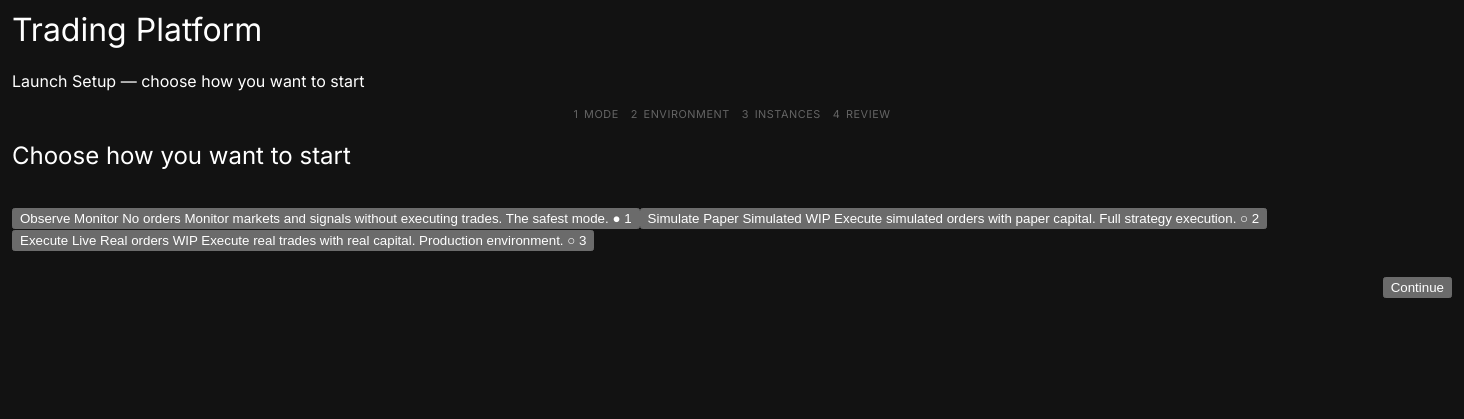
Launch Setup — mode selection › observe mode shows neither capital nor credentials
What coordinates should you click on to do the following:
click the button "Continue"
I would click on:
 (1417, 287)
Its box is [1383, 277, 1452, 298].
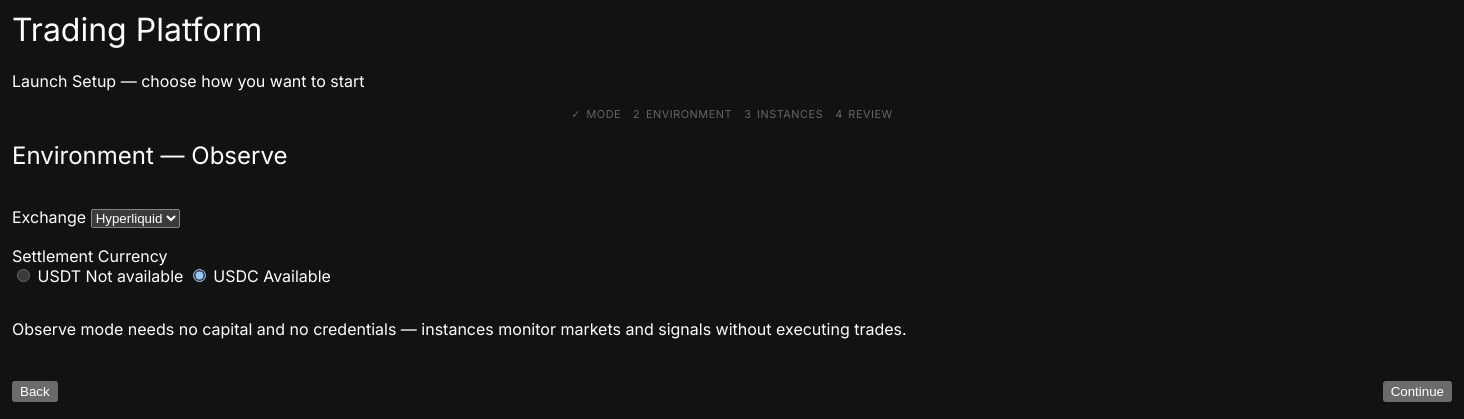
Expected: the text "no capital and no credentials" is shown, [12, 320, 907, 340]
